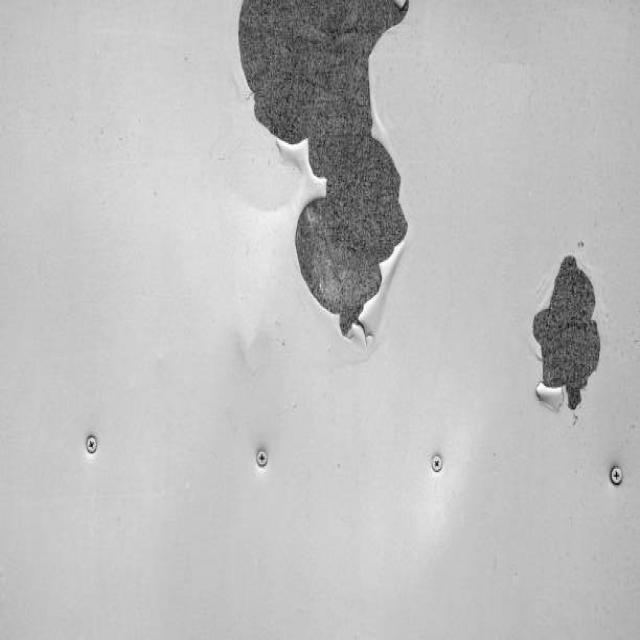peeling paint: (225, 0, 432, 365), (501, 225, 613, 434)
